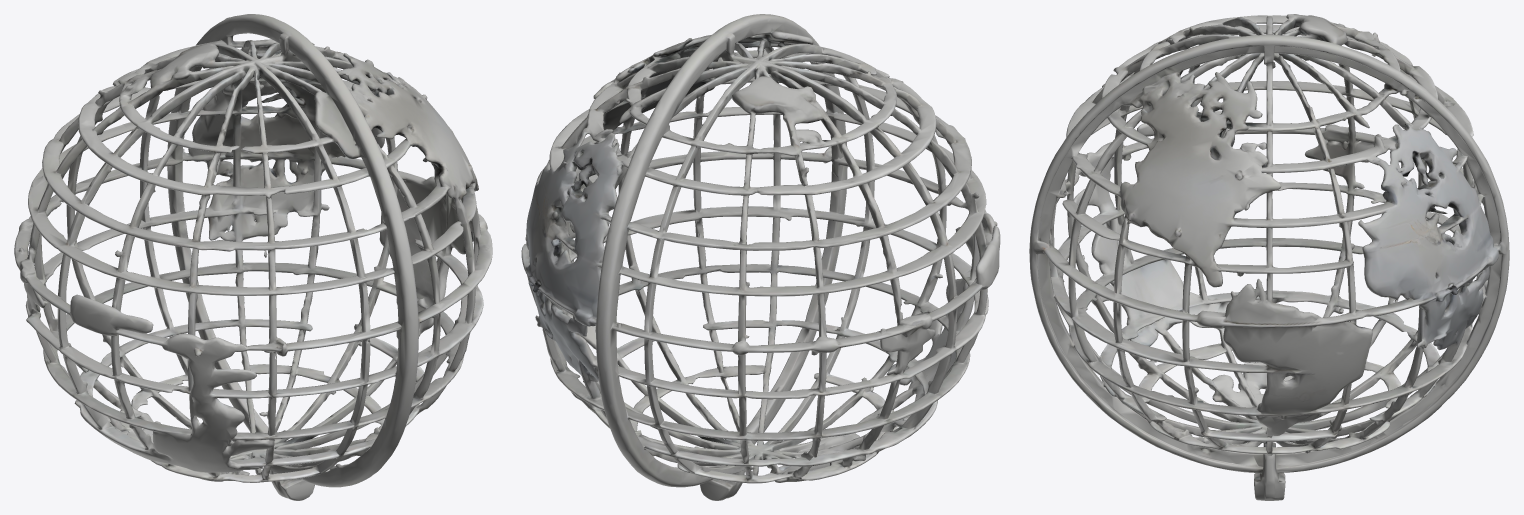
The model's file is plaza-globe-metal.glb.
3 views of the same model, side by side, from view 1: azimuth 30°, elevation 25°; view 2: azimuth 150°, elevation 25°; view 3: azimuth 270°, elevation 25° (orthographic).
Visible parts, largest first — view 1: tripo_node_35030461-d476-4949-a710-1b4562597c2e; view 2: tripo_node_35030461-d476-4949-a710-1b4562597c2e; view 3: tripo_node_35030461-d476-4949-a710-1b4562597c2e.
Boxes of the visible parts, box(x1,y1,x2,y2) form: tripo_node_35030461-d476-4949-a710-1b4562597c2e: box(14, 14, 492, 500); tripo_node_35030461-d476-4949-a710-1b4562597c2e: box(521, 14, 1000, 500); tripo_node_35030461-d476-4949-a710-1b4562597c2e: box(1029, 14, 1509, 500).
Size of the model in its own units: 3.71 by 4 by 3.77.
1 material, 1 textured.
